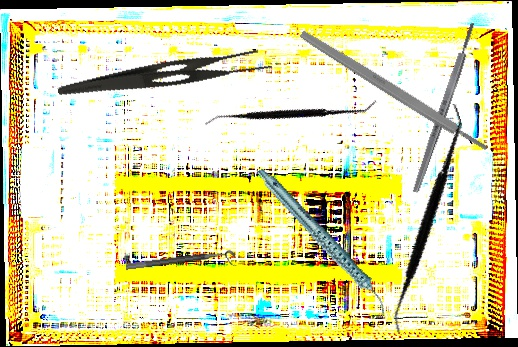Dressing Forceps: (56, 37, 274, 120)
Fixation Ring: (125, 249, 237, 280)
Handpiece: (256, 148, 390, 335)
Scalpel Handle: (298, 28, 490, 155), (410, 21, 478, 194)
Spatula Surgical: (343, 103, 510, 334), (203, 32, 378, 193)
